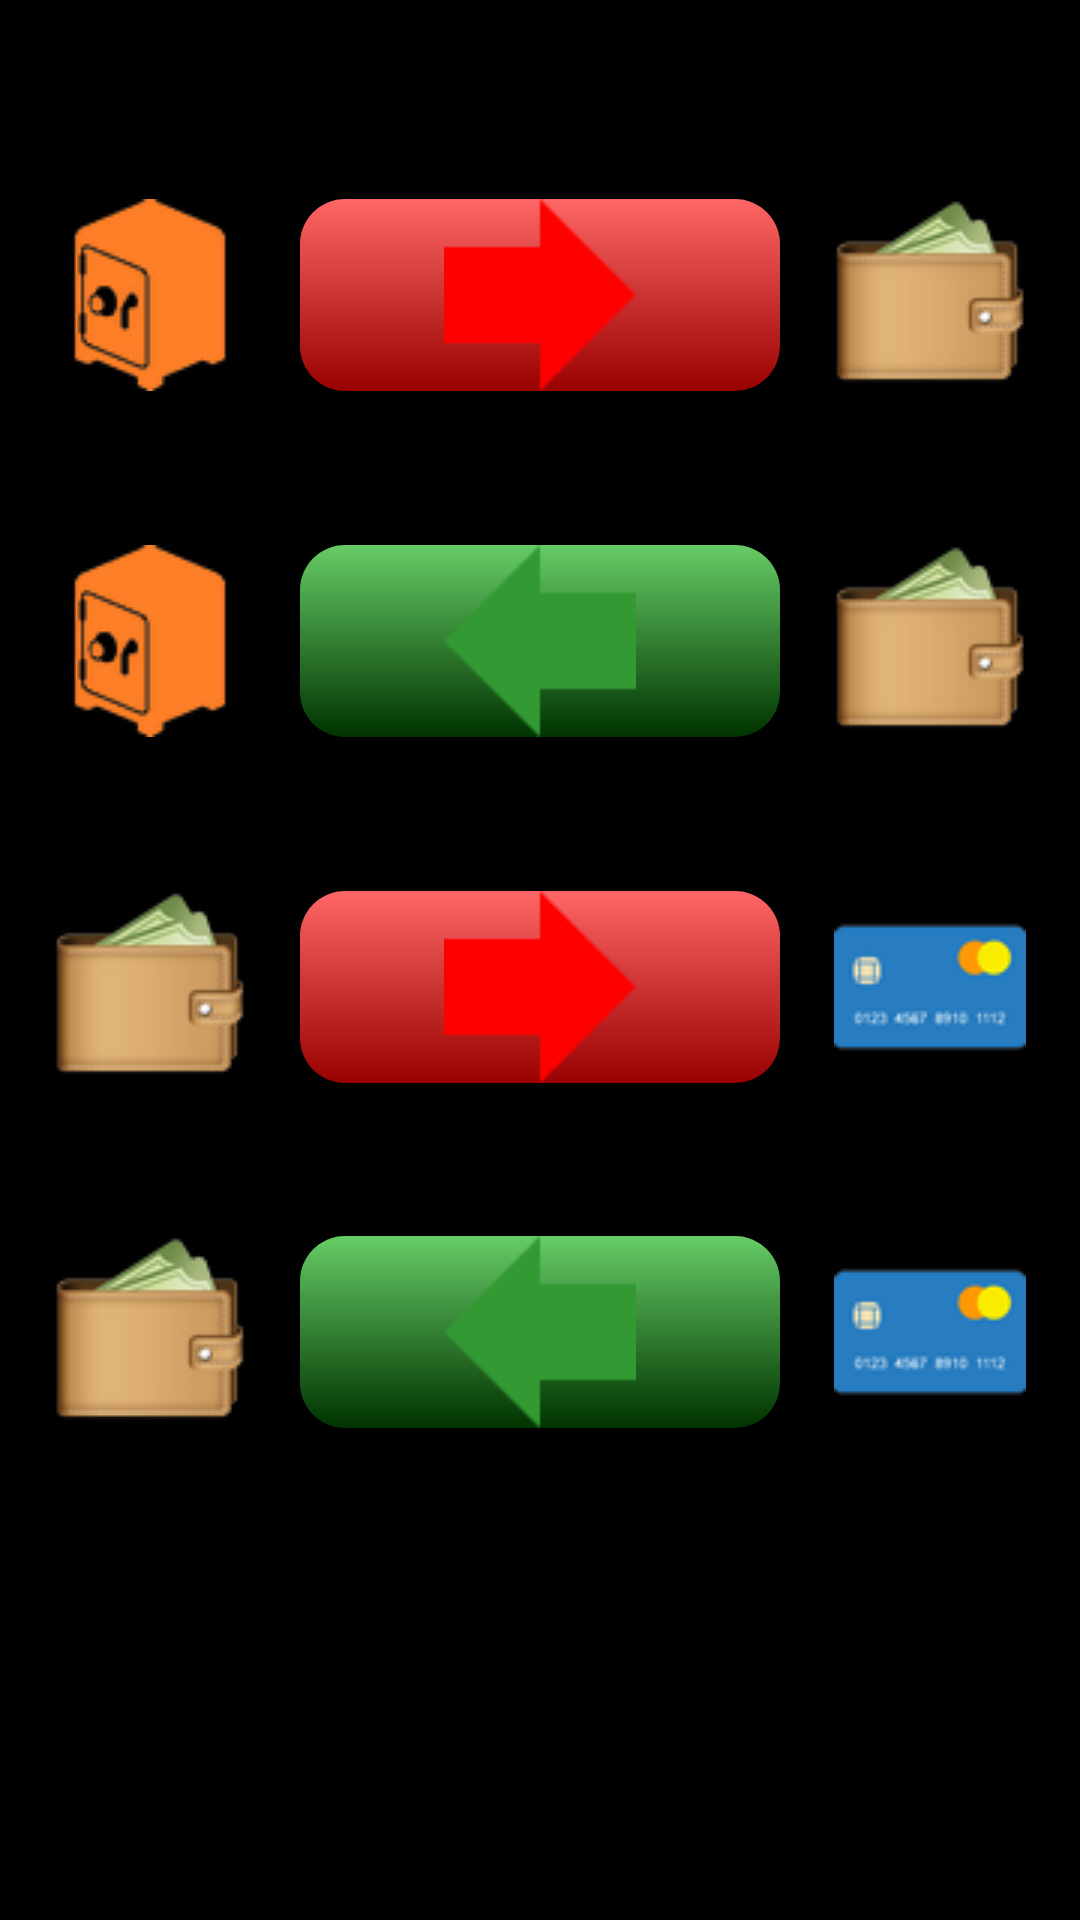

Icon click points for this 1080w x 1920h phone screenshot, format point (x, y):
cash: point (930, 290), point (930, 636), point (150, 982), point (150, 1327)
safe: point (150, 295), point (150, 641)
